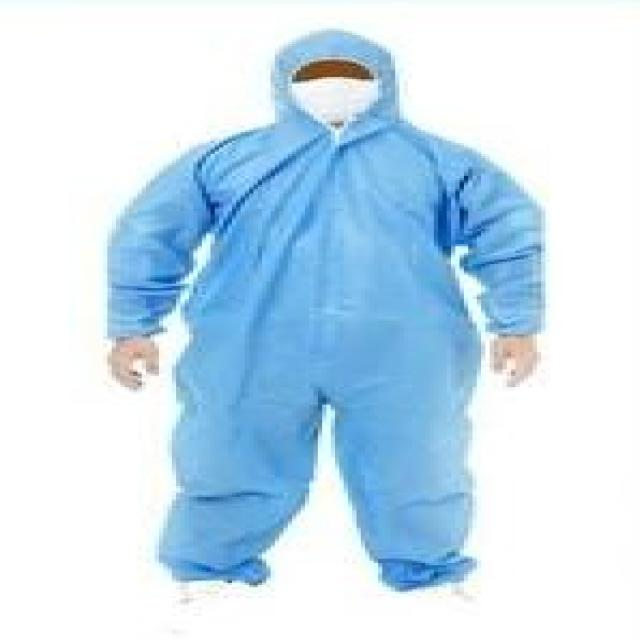Coverall: (64, 15, 640, 616)
Mask: (262, 66, 395, 117)
